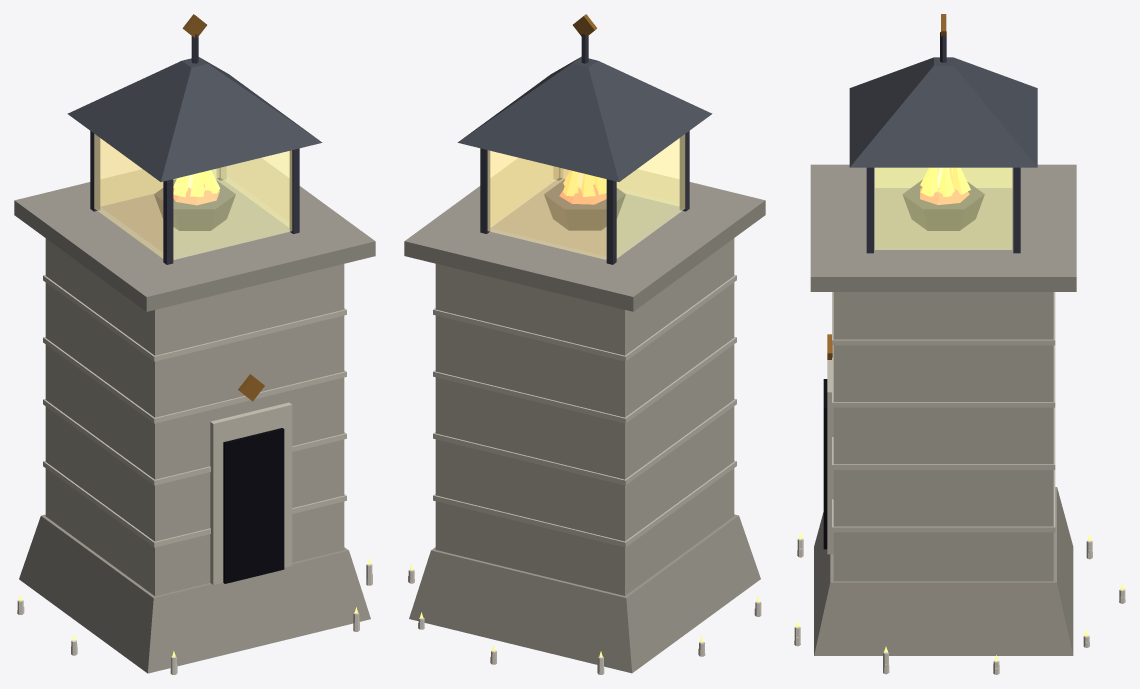
File: vigil_light_lit.glb
The picture shows the model from 3 angles, left to right: view 1: azimuth 30°, elevation 25°; view 2: azimuth 150°, elevation 25°; view 3: azimuth 270°, elevation 25°; orthographic projection.
Visible parts, largest first — view 1: bone_d20, bone_d30, slate_d30, kindle_glow_horn30, bone_d12, ink_d60, ink_l15, ember_glow, bone_l10; view 2: bone_d20, bone_d30, slate_d30, kindle_glow_horn30, bone_d12, ink_l15, ember_glow, bone_l10; view 3: bone_d20, bone_d30, slate_d30, kindle_glow_horn30, bone_d12, ink_l15, ember_glow, ink_d60, bone_l10.
Part boxes in pixels (x1,y1,x2,y2): bone_d20: [45, 238, 344, 595]; bone_d30: [14, 158, 375, 673]; slate_d30: [67, 57, 322, 181]; kindle_glow_horn30: [94, 134, 292, 259]; bone_d12: [43, 275, 346, 584]; ink_d60: [223, 428, 284, 583]; ink_l15: [90, 34, 299, 264]; ember_glow: [173, 170, 219, 197]; bone_l10: [17, 564, 372, 674]; bone_d20: [435, 238, 734, 595]; bone_d30: [404, 158, 765, 673]; slate_d30: [457, 56, 712, 181]; kindle_glow_horn30: [487, 134, 685, 259]; bone_d12: [433, 275, 736, 547]; ink_l15: [480, 34, 689, 264]; ember_glow: [563, 170, 606, 196]; bone_l10: [408, 569, 761, 674]; bone_d20: [833, 292, 1053, 581]; bone_d30: [810, 164, 1076, 655]; slate_d30: [849, 57, 1037, 167]; kindle_glow_horn30: [875, 167, 1012, 249]; bone_d12: [827, 292, 1055, 554]; ink_l15: [866, 31, 1020, 253]; ember_glow: [920, 167, 970, 196]; ink_d60: [823, 379, 827, 549]; bone_l10: [794, 538, 1125, 674].
Bounding box in the file's own units: 3.8 × 7.07 × 3.61.
